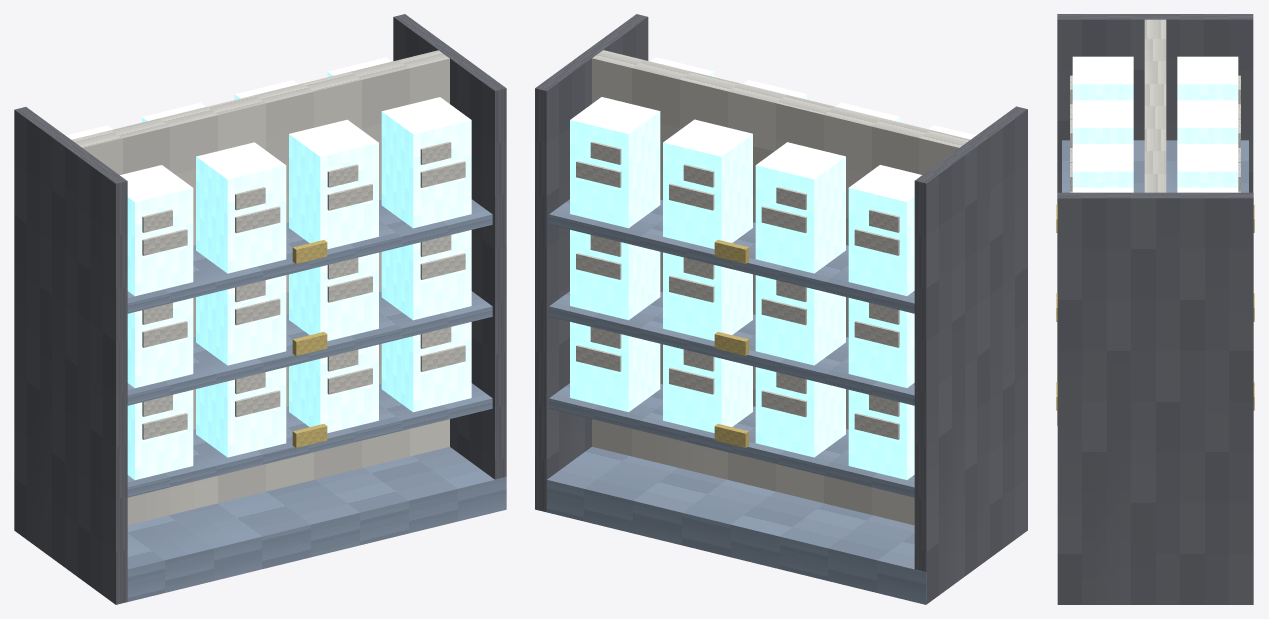
File: gondola-bottles.glb
The picture shows the model from 3 angles, left to right: view 1: azimuth 30°, elevation 25°; view 2: azimuth 150°, elevation 25°; view 3: azimuth 270°, elevation 25°; orthographic projection. The views are drawn at different scales.
Visible parts, largest first — view 1: gondola-run-bottles; view 2: gondola-run-bottles; view 3: gondola-run-bottles.
Part boxes in pixels (left/top/right/bottom): gondola-run-bottles: left=14, top=14, right=506, bottom=604; gondola-run-bottles: left=535, top=14, right=1027, bottom=604; gondola-run-bottles: left=1056, top=14, right=1254, bottom=604.
Size of the model in its own units: 2 by 2.06 by 0.91.
Materials: 5 (5 with a texture image).
